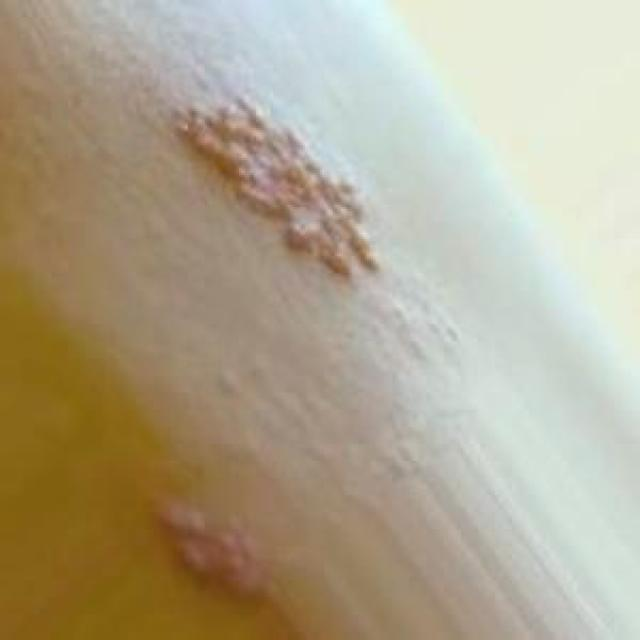Shingles: (162, 84, 381, 280), (145, 490, 272, 608)
